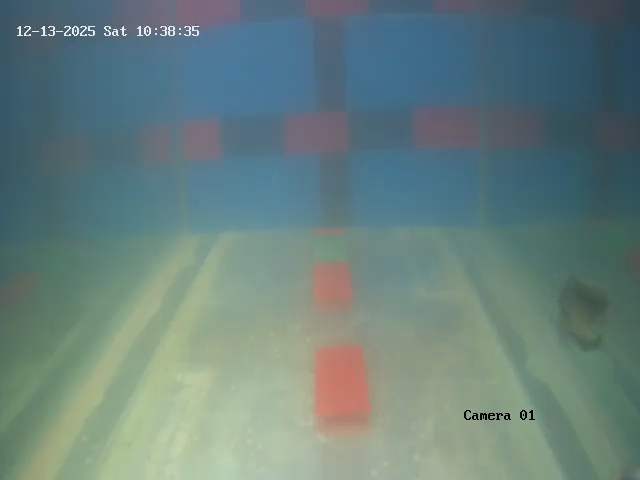fish: (549, 272, 611, 355)
